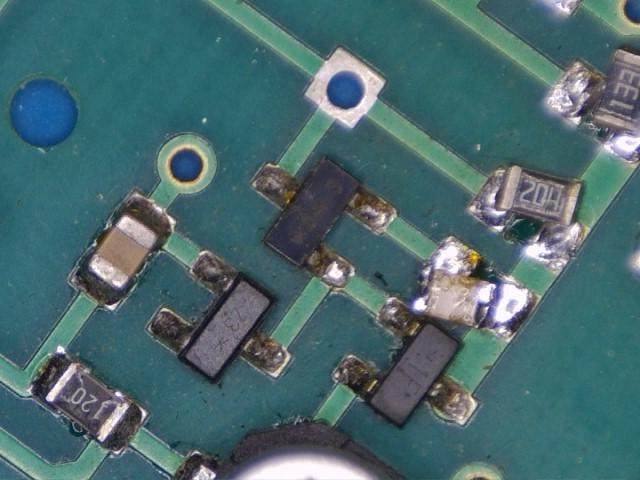pcb_defect: (410, 234, 544, 346), (466, 162, 592, 277), (544, 47, 640, 170)
